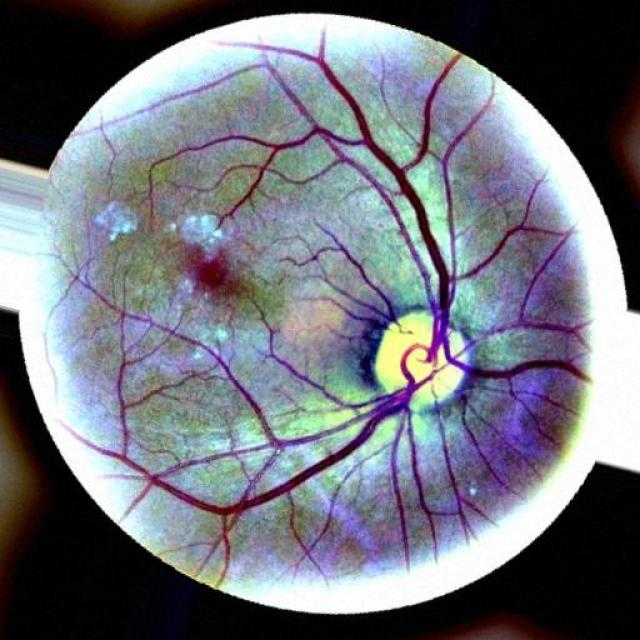Macula: (194, 251, 246, 305)
Nerves: (268, 63, 450, 352), (110, 380, 415, 515), (291, 240, 400, 319)
Optic Disk: (373, 309, 472, 411)
